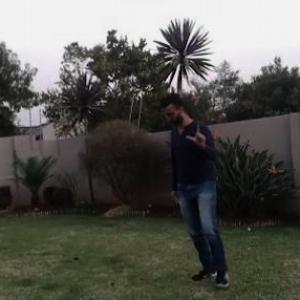land_hand: (184, 116, 216, 147)
